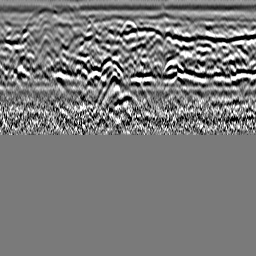cavity: (119, 17, 137, 38)
